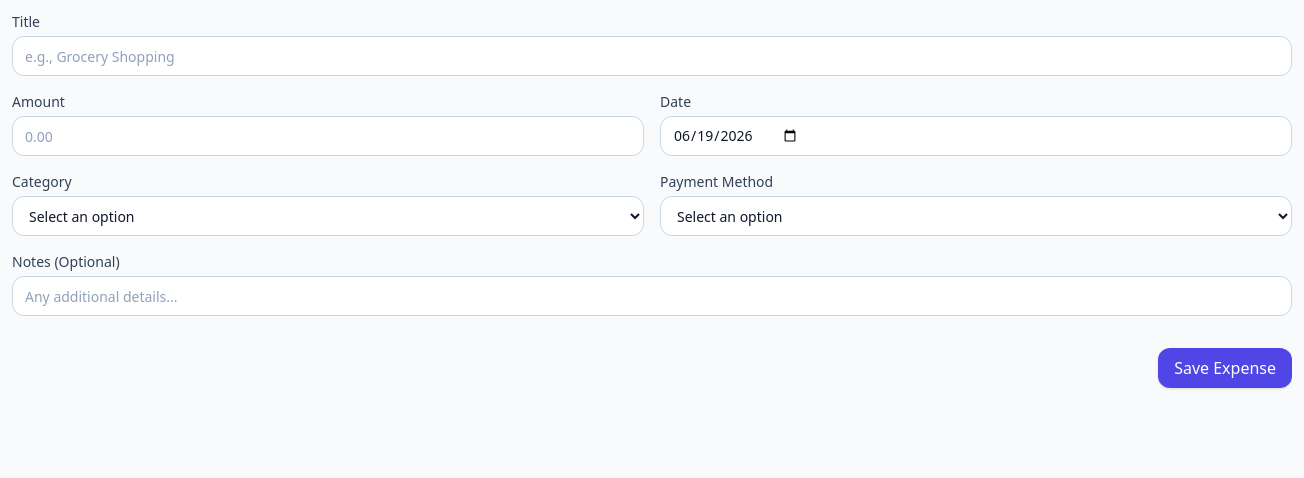
Scenario: ExpenseForm Validation › shows error if required fields are empty on submit
The image size is (1304, 478).
Click the button "Save Expense": (1225, 368) [1158, 348, 1292, 388]
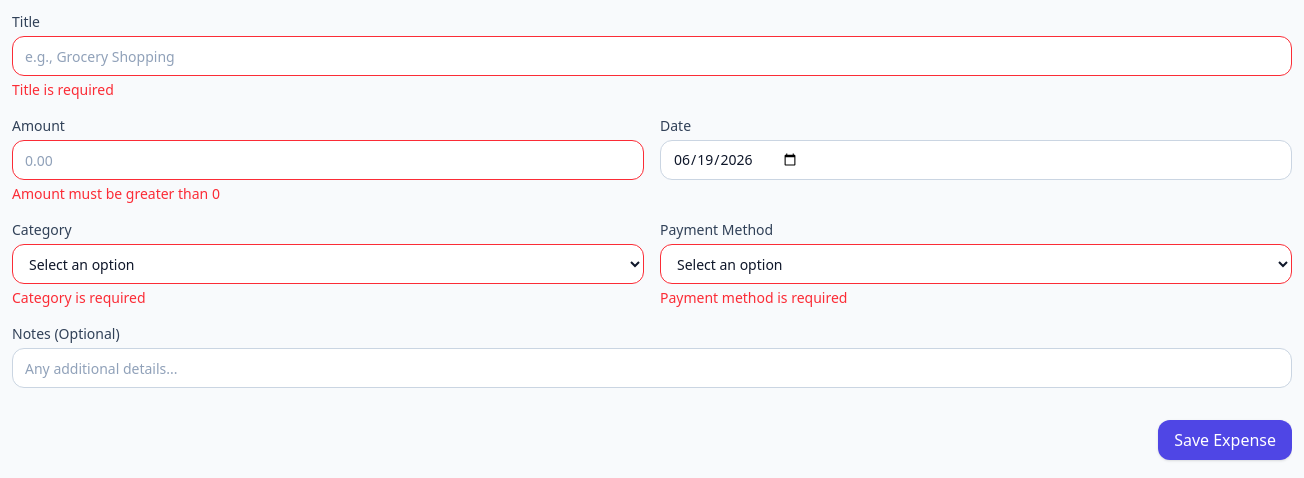
Result: the text "Title is required" is shown at [12, 80, 114, 99]
